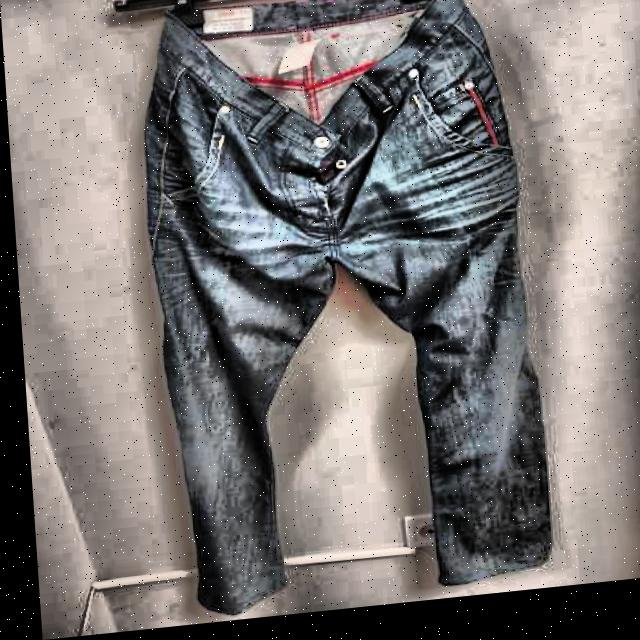clothes: (130, 0, 558, 623)
